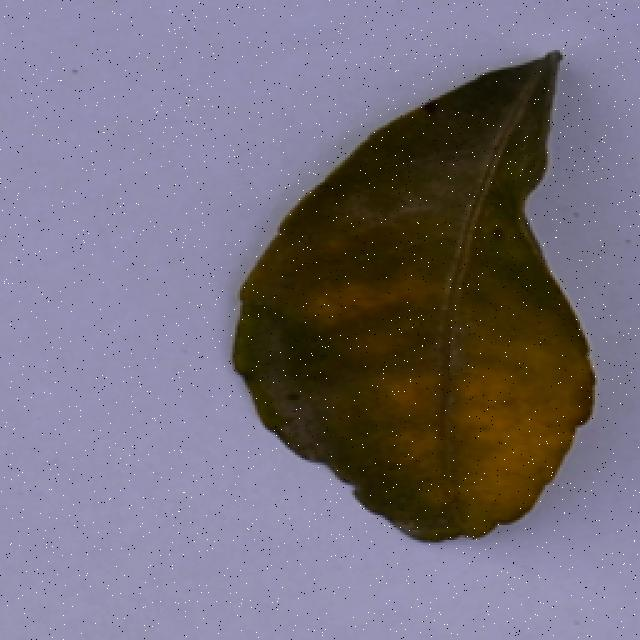blackspot: (224, 45, 603, 558)
